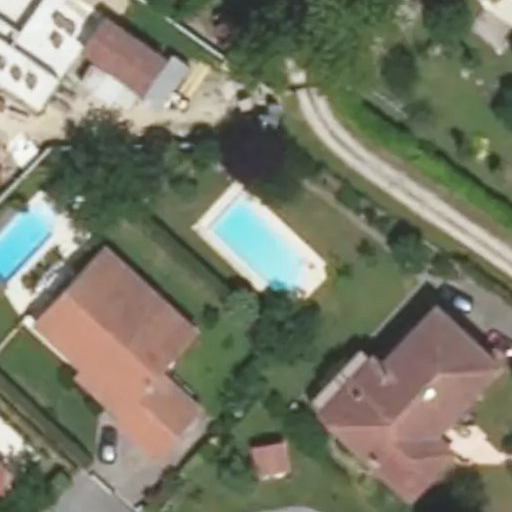pool: (204, 225, 307, 258)
